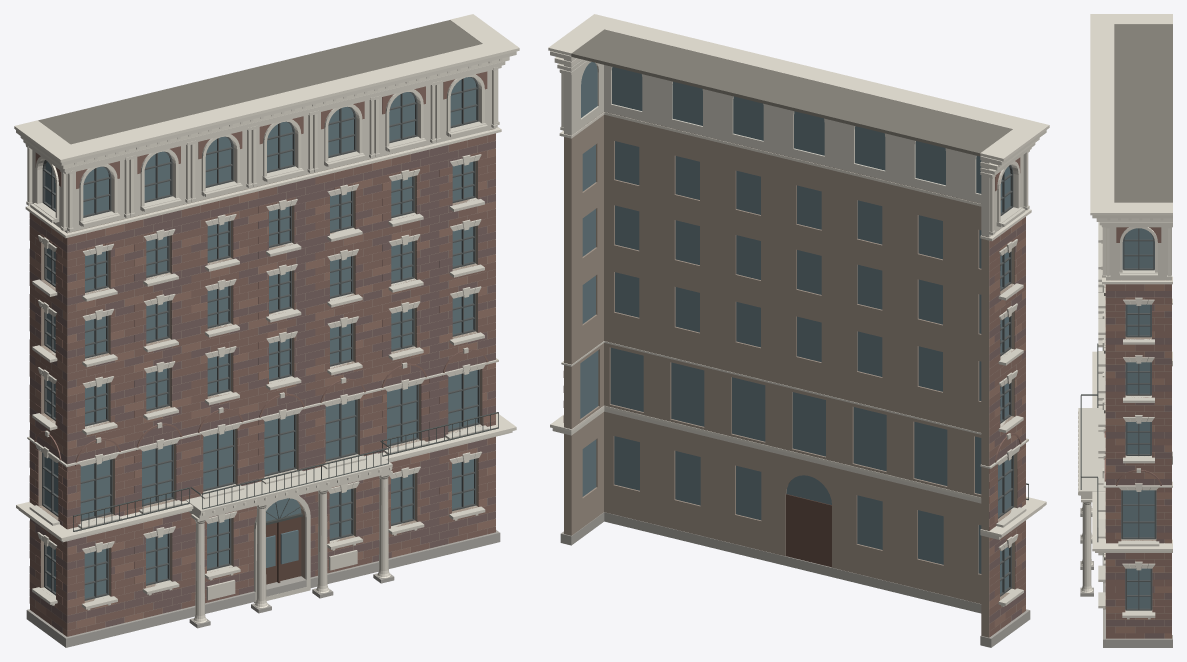
Rendered from huangpu-american-club-lod.glb.
The picture shows the model from 3 angles, left to right: view 1: azimuth 30°, elevation 25°; view 2: azimuth 150°, elevation 25°; view 3: azimuth 270°, elevation 25°; orthographic projection. The views are drawn at different scales.
Parts seen in each view (by area): view 1: 美国花旗总会（福州路209号主立面）; view 2: 美国花旗总会（福州路209号主立面）; view 3: 美国花旗总会（福州路209号主立面）.
Part boxes in pixels (x1,y1,x2,y2): 美国花旗总会（福州路209号主立面）: (14, 14, 519, 647); 美国花旗总会（福州路209号主立面）: (548, 14, 1049, 647); 美国花旗总会（福州路209号主立面）: (1078, 14, 1172, 647).
Size of the model in its own units: 24.78 by 25.7 by 4.99.
